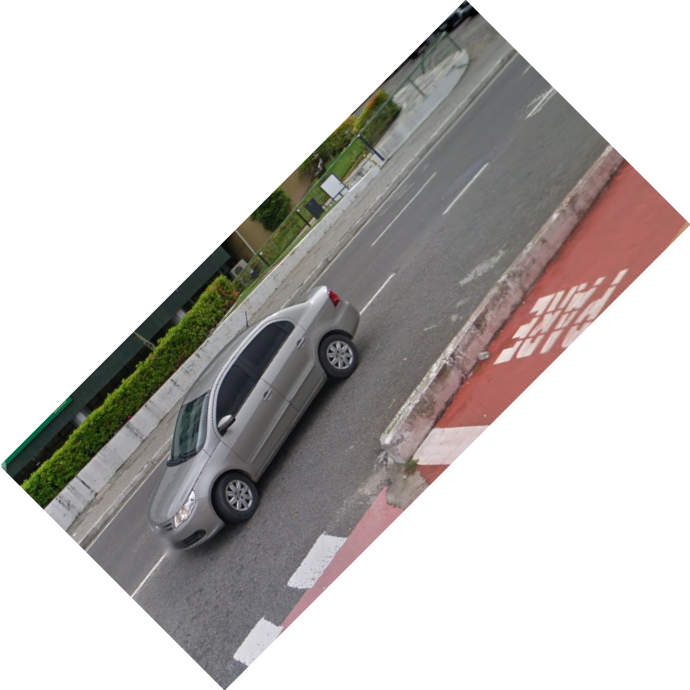car: (136, 282, 366, 547)
